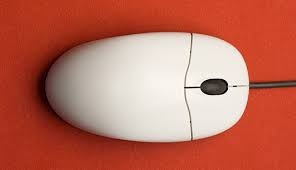mouse: (42, 28, 254, 147)
